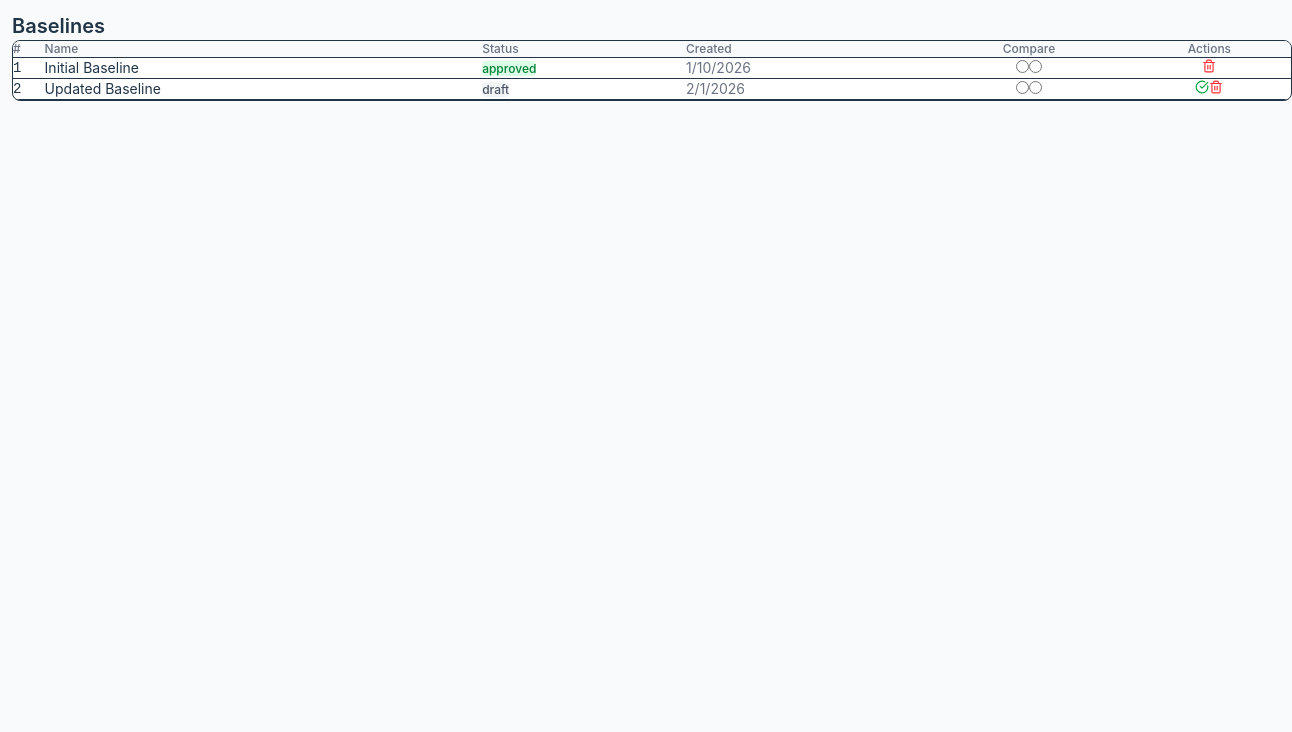
Test: BaselineList › shows success toast after successful delete
Step 1. Click the button titled "Delete" → (1209, 66), box [1202,59,1216,73]
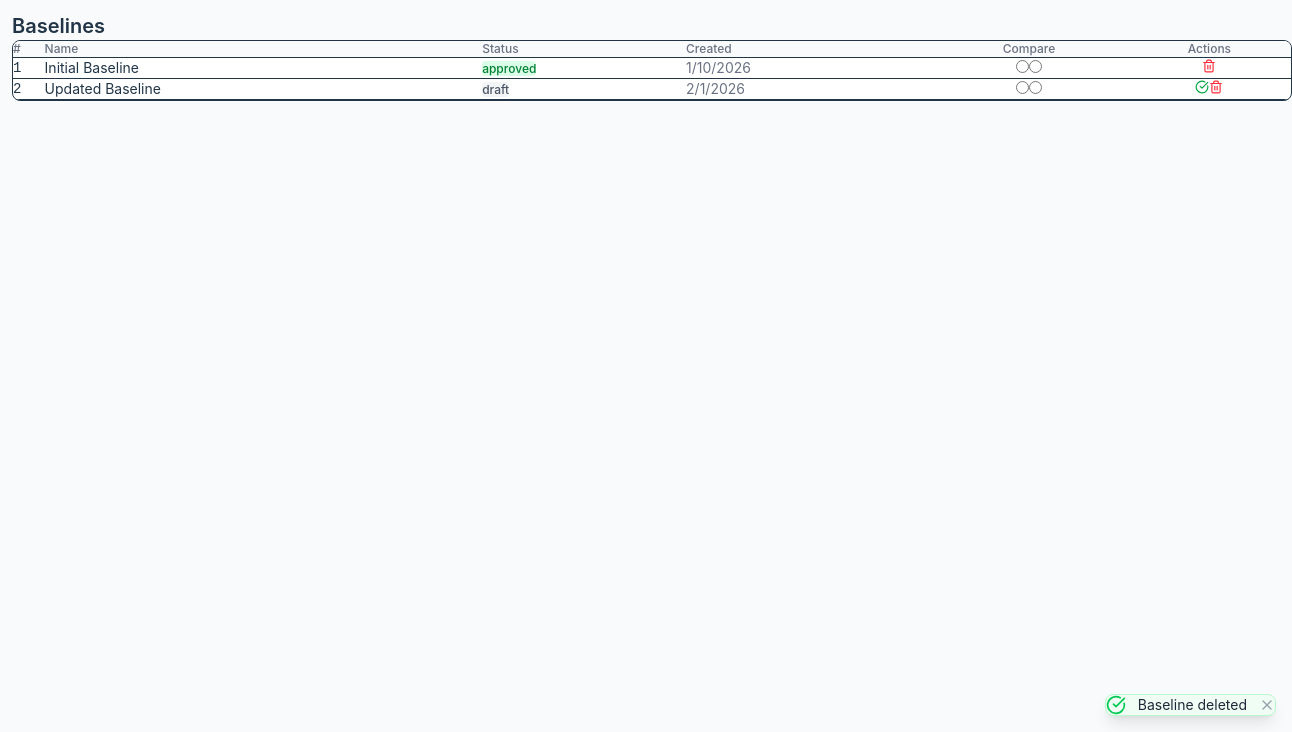
Expected: the text "Baseline deleted" is shown, [1138,695,1247,715]
